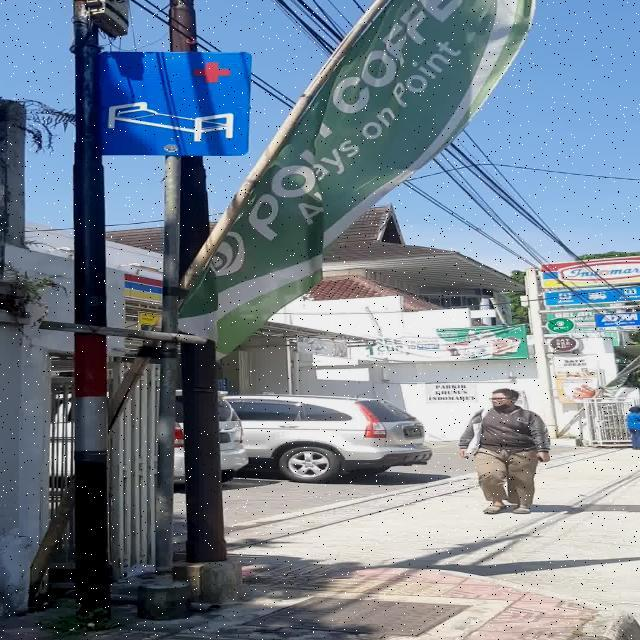Rumah Sakit: (102, 50, 250, 156)
